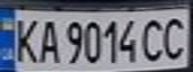0: (81, 17, 103, 65)
1: (100, 17, 121, 64)
4: (118, 16, 142, 64)
9: (60, 16, 84, 65)
A: (33, 16, 60, 64)
C: (157, 12, 193, 61), (139, 15, 169, 63)
K: (9, 13, 42, 64)
